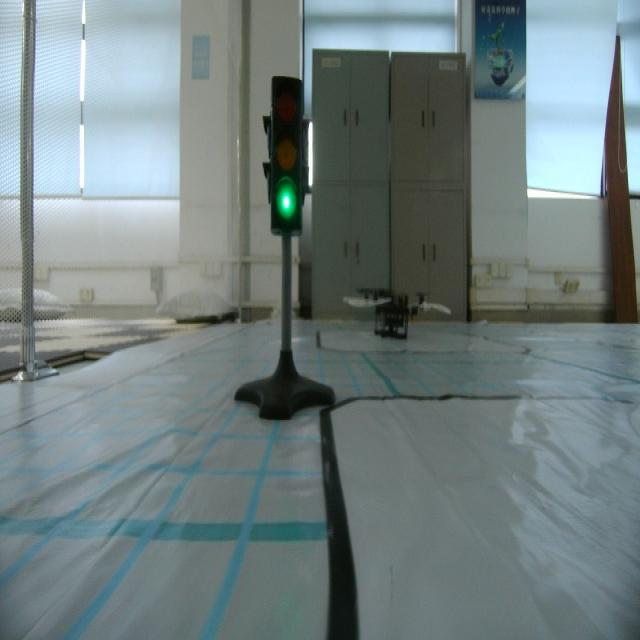green: (266, 70, 308, 240)
